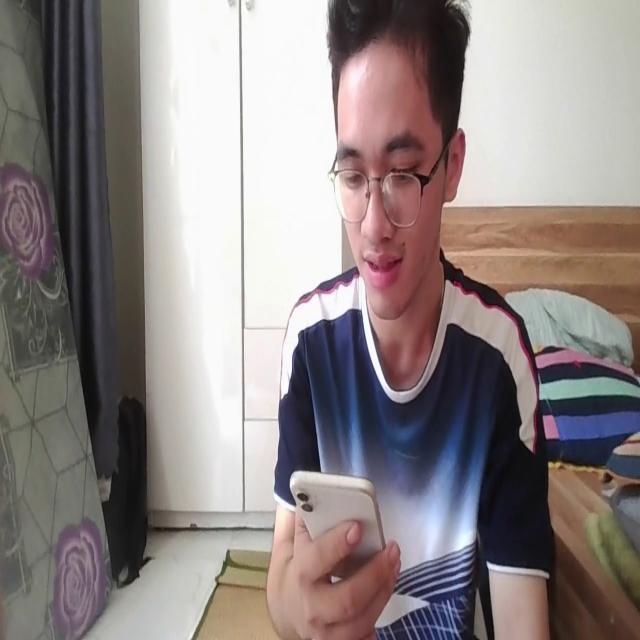phone: (290, 461, 392, 584)
student: (264, 0, 556, 640)
